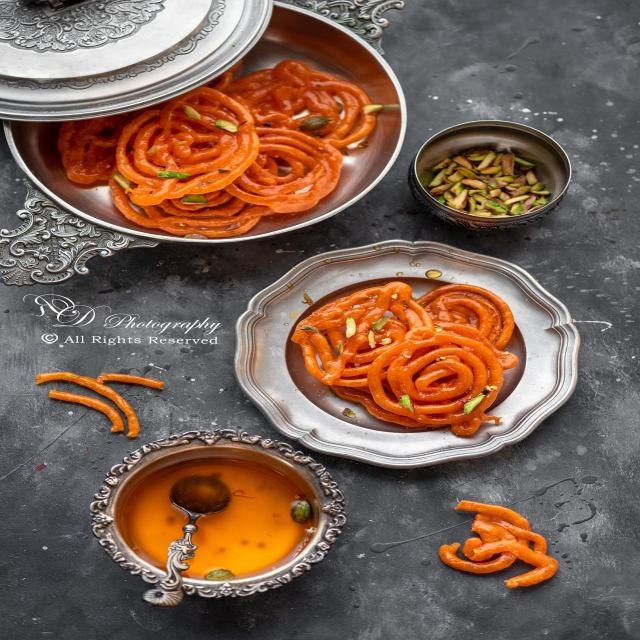jalebi: (62, 81, 372, 226), (284, 284, 530, 433), (437, 502, 575, 600), (45, 362, 170, 432)
